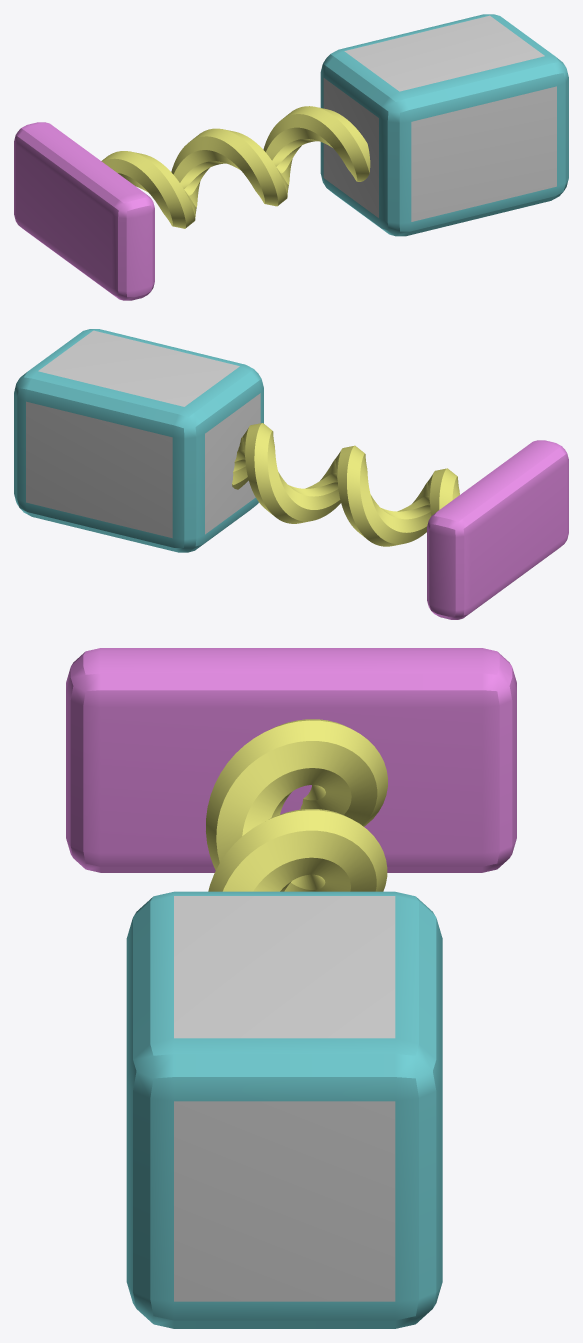
File: Obstacle06.fbx
3 renders of one model, top to bottom at view 1: azimuth 30°, elevation 25°; view 2: azimuth 150°, elevation 25°; view 3: azimuth 270°, elevation 25°, orthographic. The views are drawn at different scales.
Visible parts, largest first — view 1: Obstacle06_Box_msh, Obstacle06_Plate_msh, Helix01_msh; view 2: Obstacle06_Box_msh, Obstacle06_Plate_msh, Helix01_msh; view 3: Obstacle06_Box_msh, Obstacle06_Plate_msh, Helix01_msh.
Boxes of the visible parts, x1=… form: Obstacle06_Box_msh: x1=320, y1=14, x2=568, y2=236; Obstacle06_Plate_msh: x1=14, y1=122, x2=154, y2=300; Helix01_msh: x1=101, y1=106, x2=370, y2=228; Obstacle06_Box_msh: x1=14, y1=329, x2=263, y2=552; Obstacle06_Plate_msh: x1=427, y1=440, x2=568, y2=619; Helix01_msh: x1=232, y1=423, x2=459, y2=546; Obstacle06_Box_msh: x1=126, y1=891, x2=442, y2=1328; Obstacle06_Plate_msh: x1=66, y1=648, x2=516, y2=872; Helix01_msh: x1=206, y1=719, x2=387, y2=891.
Size of the model in its own units: 3.45 by 1 by 1.43.
